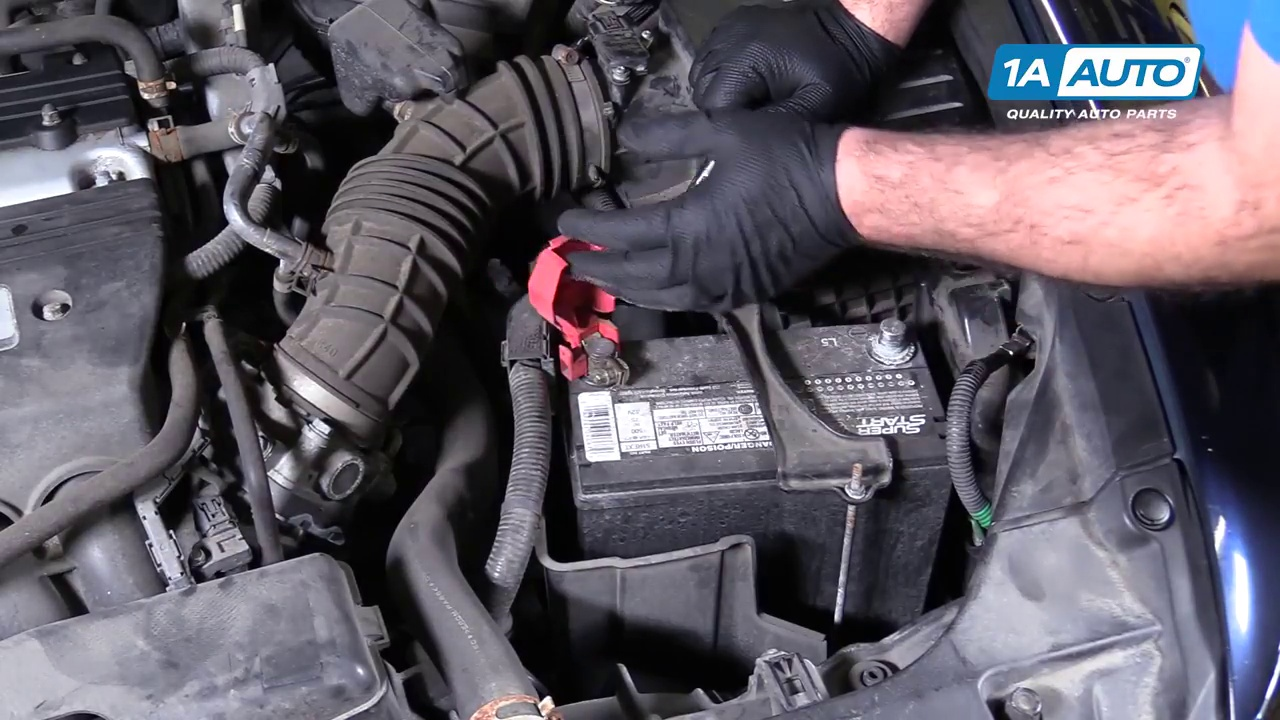battery: (524, 300, 952, 474)
neg_disconnected: (848, 300, 930, 377)
pos_connected: (515, 238, 664, 410)
pos_touched: (532, 169, 717, 409)
